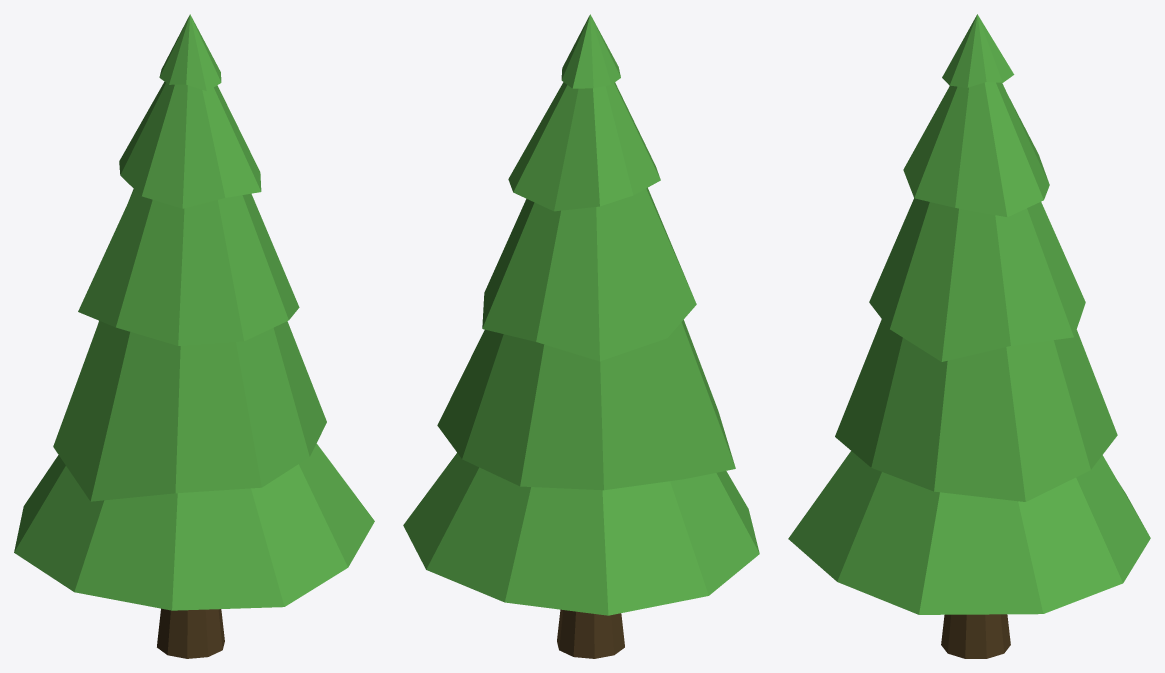
Rendered from sapin.fbx.
The picture shows the model from 3 angles, left to right: view 1: azimuth 30°, elevation 25°; view 2: azimuth 150°, elevation 25°; view 3: azimuth 270°, elevation 25°; orthographic projection.
Visible parts, largest first — view 1: Cylinder.001, Cylinder; view 2: Cylinder.001, Cylinder; view 3: Cylinder.001, Cylinder.
Part boxes in pixels (left/top/right/bottom): Cylinder.001: left=14, top=14, right=374, bottom=610; Cylinder: left=157, top=608, right=224, bottom=658; Cylinder.001: left=403, top=14, right=759, bottom=615; Cylinder: left=557, top=609, right=624, bottom=658; Cylinder.001: left=788, top=14, right=1150, bottom=614; Cylinder: left=941, top=614, right=1010, bottom=658.
Bounding box in the file's own units: 1193 × 2370 × 1235.
